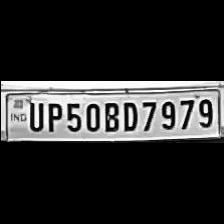0: (82, 100, 100, 132)
5: (62, 100, 82, 132)
7: (138, 98, 156, 132), (176, 96, 194, 130)
9: (156, 97, 176, 130), (194, 96, 214, 128)
B: (100, 99, 119, 133)
D: (119, 98, 138, 132)
P: (42, 100, 62, 132)
U: (23, 100, 43, 132)
